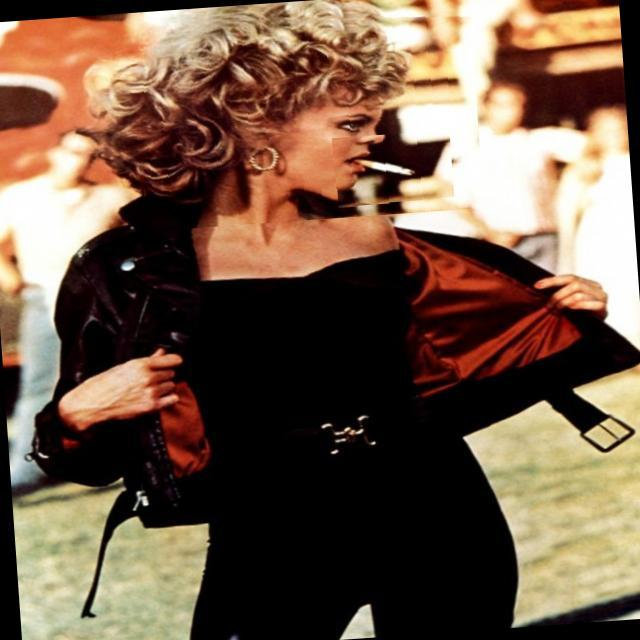cigarette: (332, 130, 454, 208)
